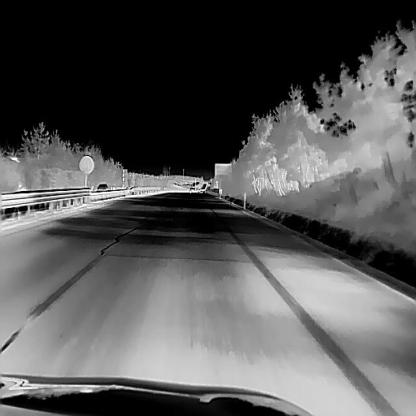car: (96, 182, 106, 189)
